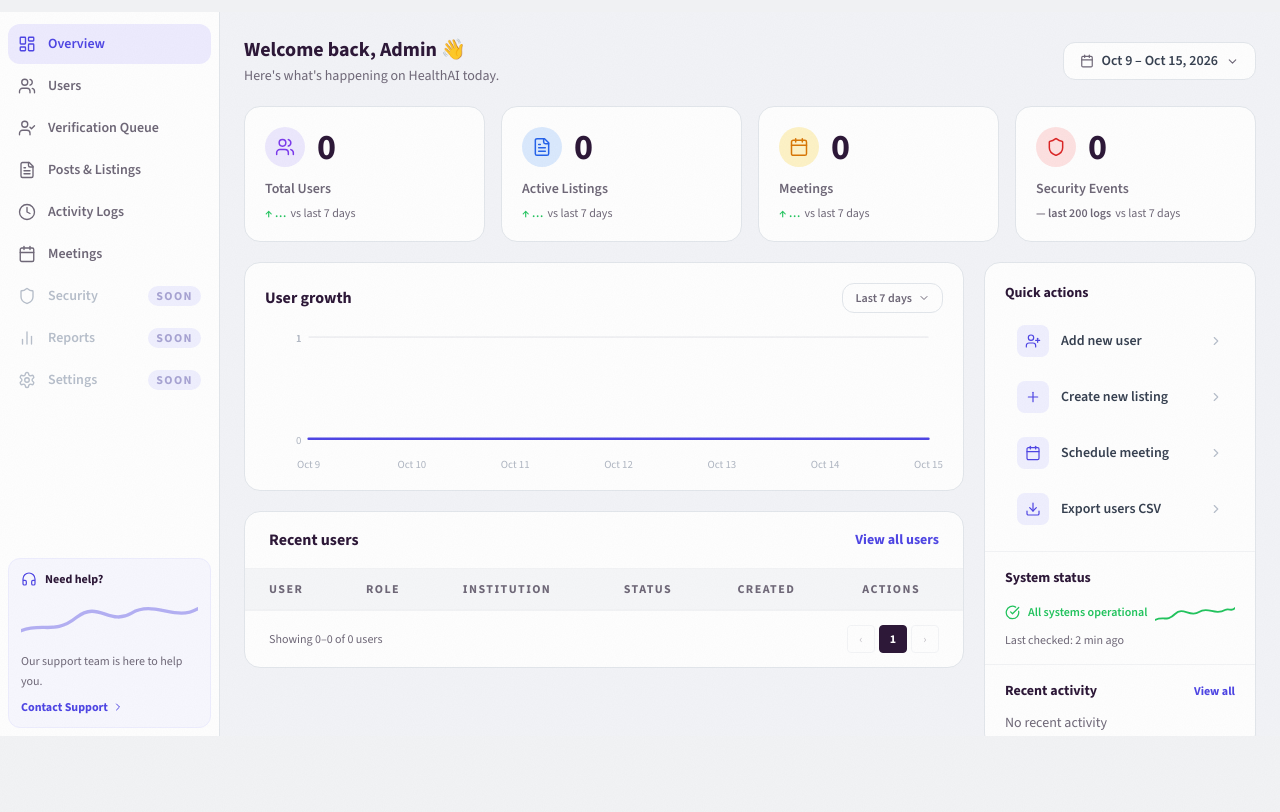
Test case: admin users list › names the page buttons for screen readers
The width and height of the screenshot is (1280, 812).
Click the button "Users" at (110, 86), box [8,66,211,106]
(page scrolled)
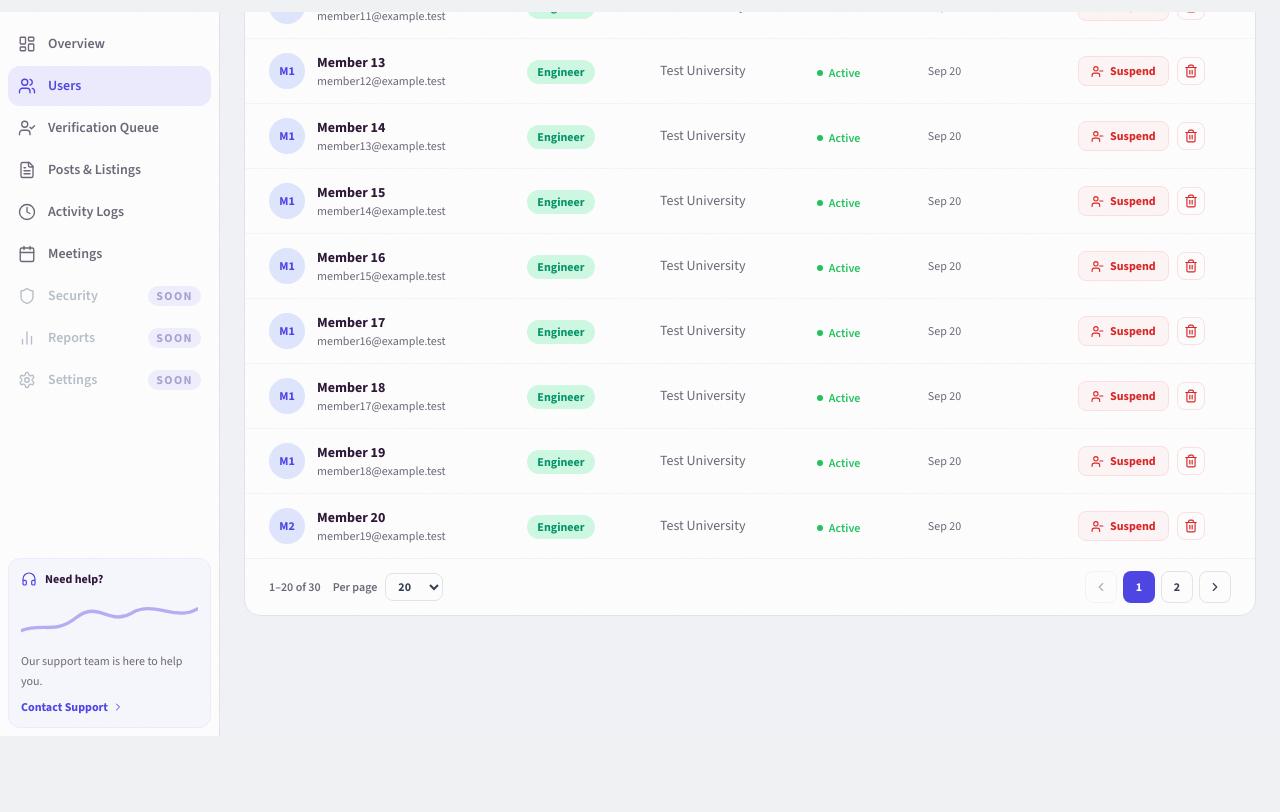
Check: the button named "Next page" is shown, box [1199,571,1231,603]
